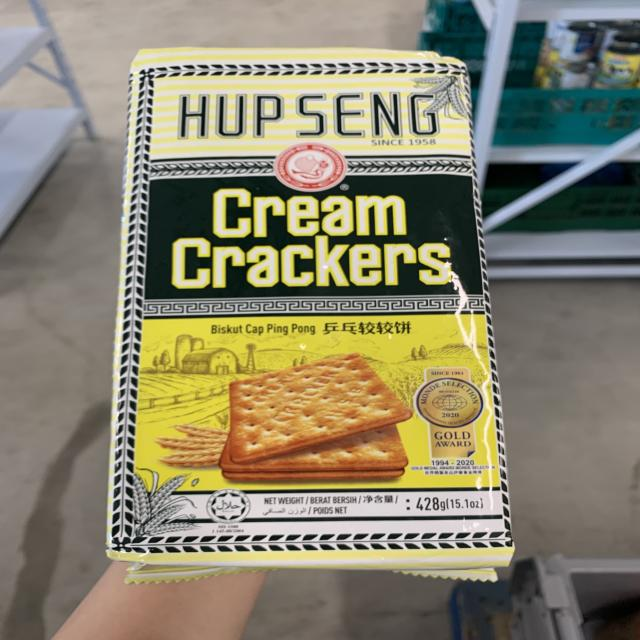object_name: (130, 48, 499, 574)
